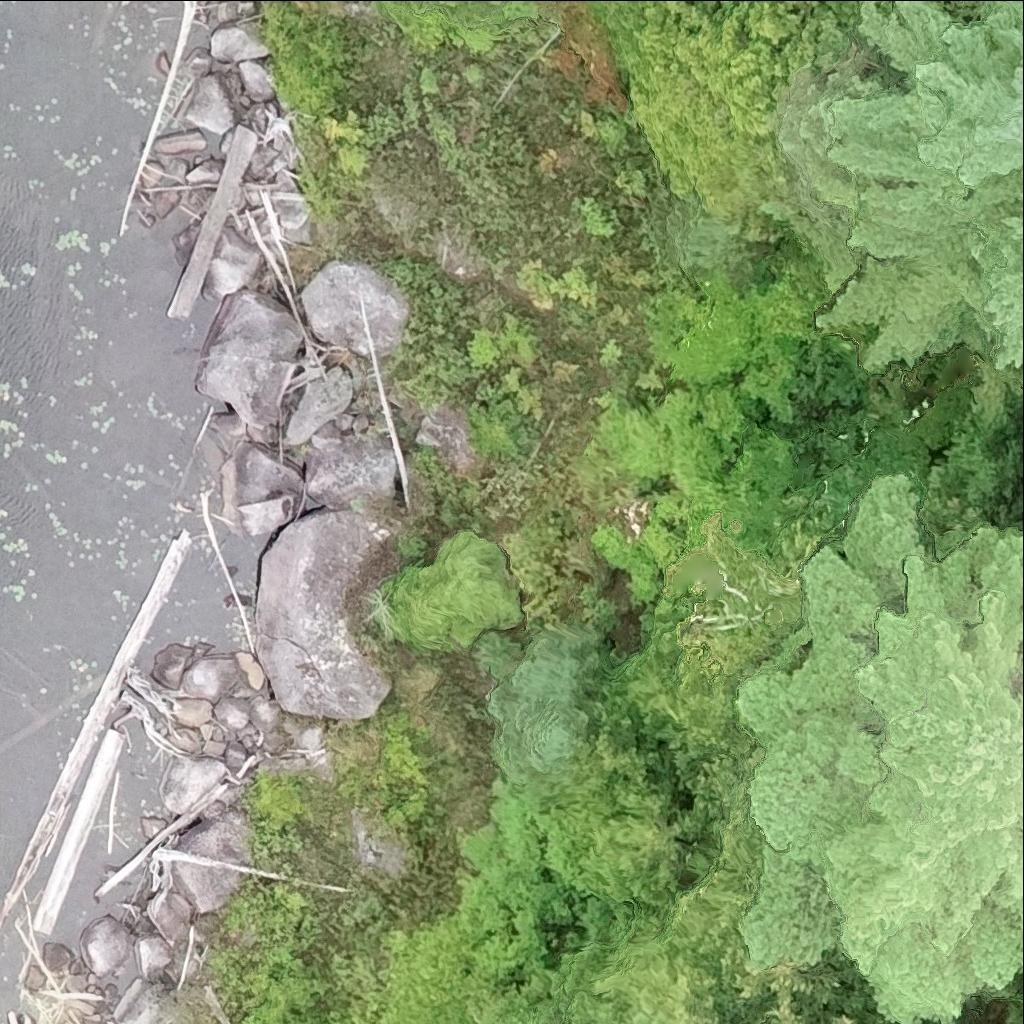crown: (743, 477, 1023, 1023), (814, 0, 1023, 367), (591, 0, 894, 239), (760, 26, 907, 299), (482, 621, 604, 782), (535, 788, 683, 902), (985, 219, 1023, 367), (383, 0, 509, 26), (945, 0, 992, 17), (770, 1012, 804, 1023), (833, 1015, 856, 1023), (1018, 178, 1023, 208)
